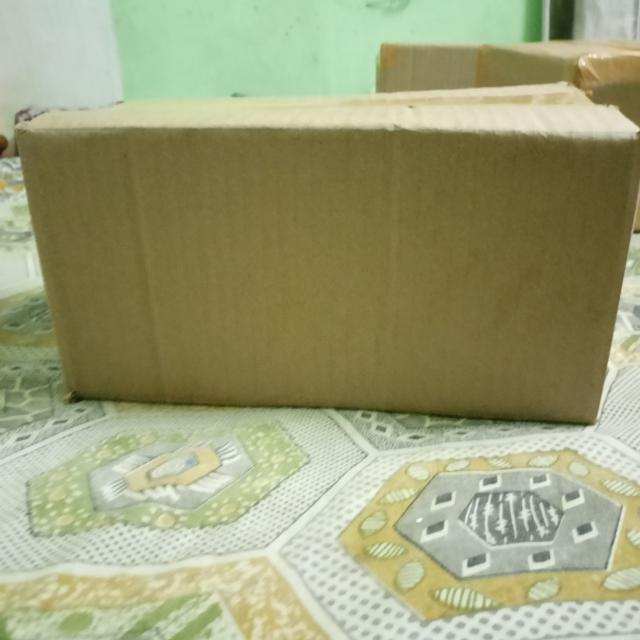box: (14, 128, 638, 427)
